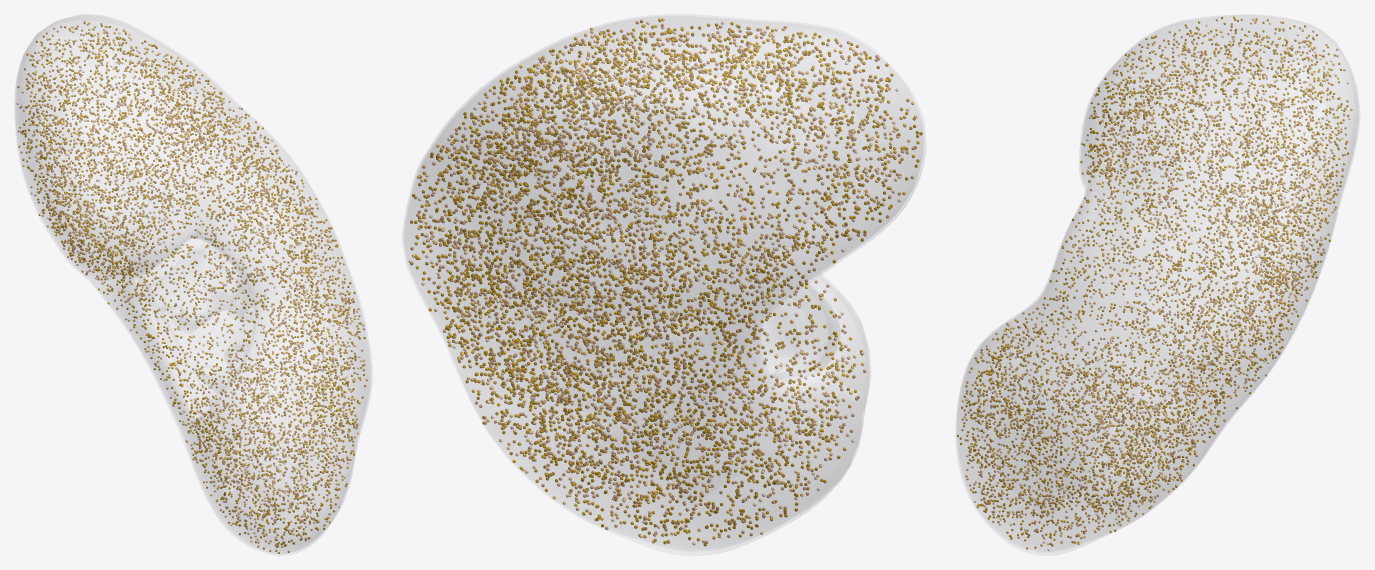
File: 3d-vh-m-kidney-l-UBERON_0004538-all-as-azimuth-sphere-hra-pop.glb
The picture shows the model from 3 angles, left to right: view 1: azimuth 30°, elevation 25°; view 2: azimuth 150°, elevation 25°; view 3: azimuth 270°, elevation 25°; orthographic projection. The views are drawn at different scales.
Parts seen in each view (by area): view 1: VH_M_kidney_capsule_L, VH_M_outer_cortex_of_kidney_L, VH_M_hilum_of_kidney_L, VH_M_renal_column_L, VH_M_renal_pyramid_L_f; view 2: VH_M_kidney_capsule_L, VH_M_outer_cortex_of_kidney_L, VH_M_hilum_of_kidney_L; view 3: VH_M_kidney_capsule_L, VH_M_outer_cortex_of_kidney_L.
Part boxes in pixels (left/top/right/bottom): VH_M_kidney_capsule_L: left=15, top=14, right=371, bottom=555; VH_M_outer_cortex_of_kidney_L: left=17, top=21, right=368, bottom=553; VH_M_hilum_of_kidney_L: left=137, top=237, right=247, bottom=415; VH_M_renal_column_L: left=168, top=239, right=252, bottom=376; VH_M_renal_pyramid_L_f: left=141, top=278, right=252, bottom=332; VH_M_kidney_capsule_L: left=402, top=14, right=925, bottom=555; VH_M_outer_cortex_of_kidney_L: left=405, top=18, right=920, bottom=547; VH_M_hilum_of_kidney_L: left=762, top=288, right=828, bottom=379; VH_M_kidney_capsule_L: left=956, top=14, right=1359, bottom=555; VH_M_outer_cortex_of_kidney_L: left=957, top=17, right=1353, bottom=549.
Size of the model in its own units: 0.0757 by 0.1065 by 0.0824.
